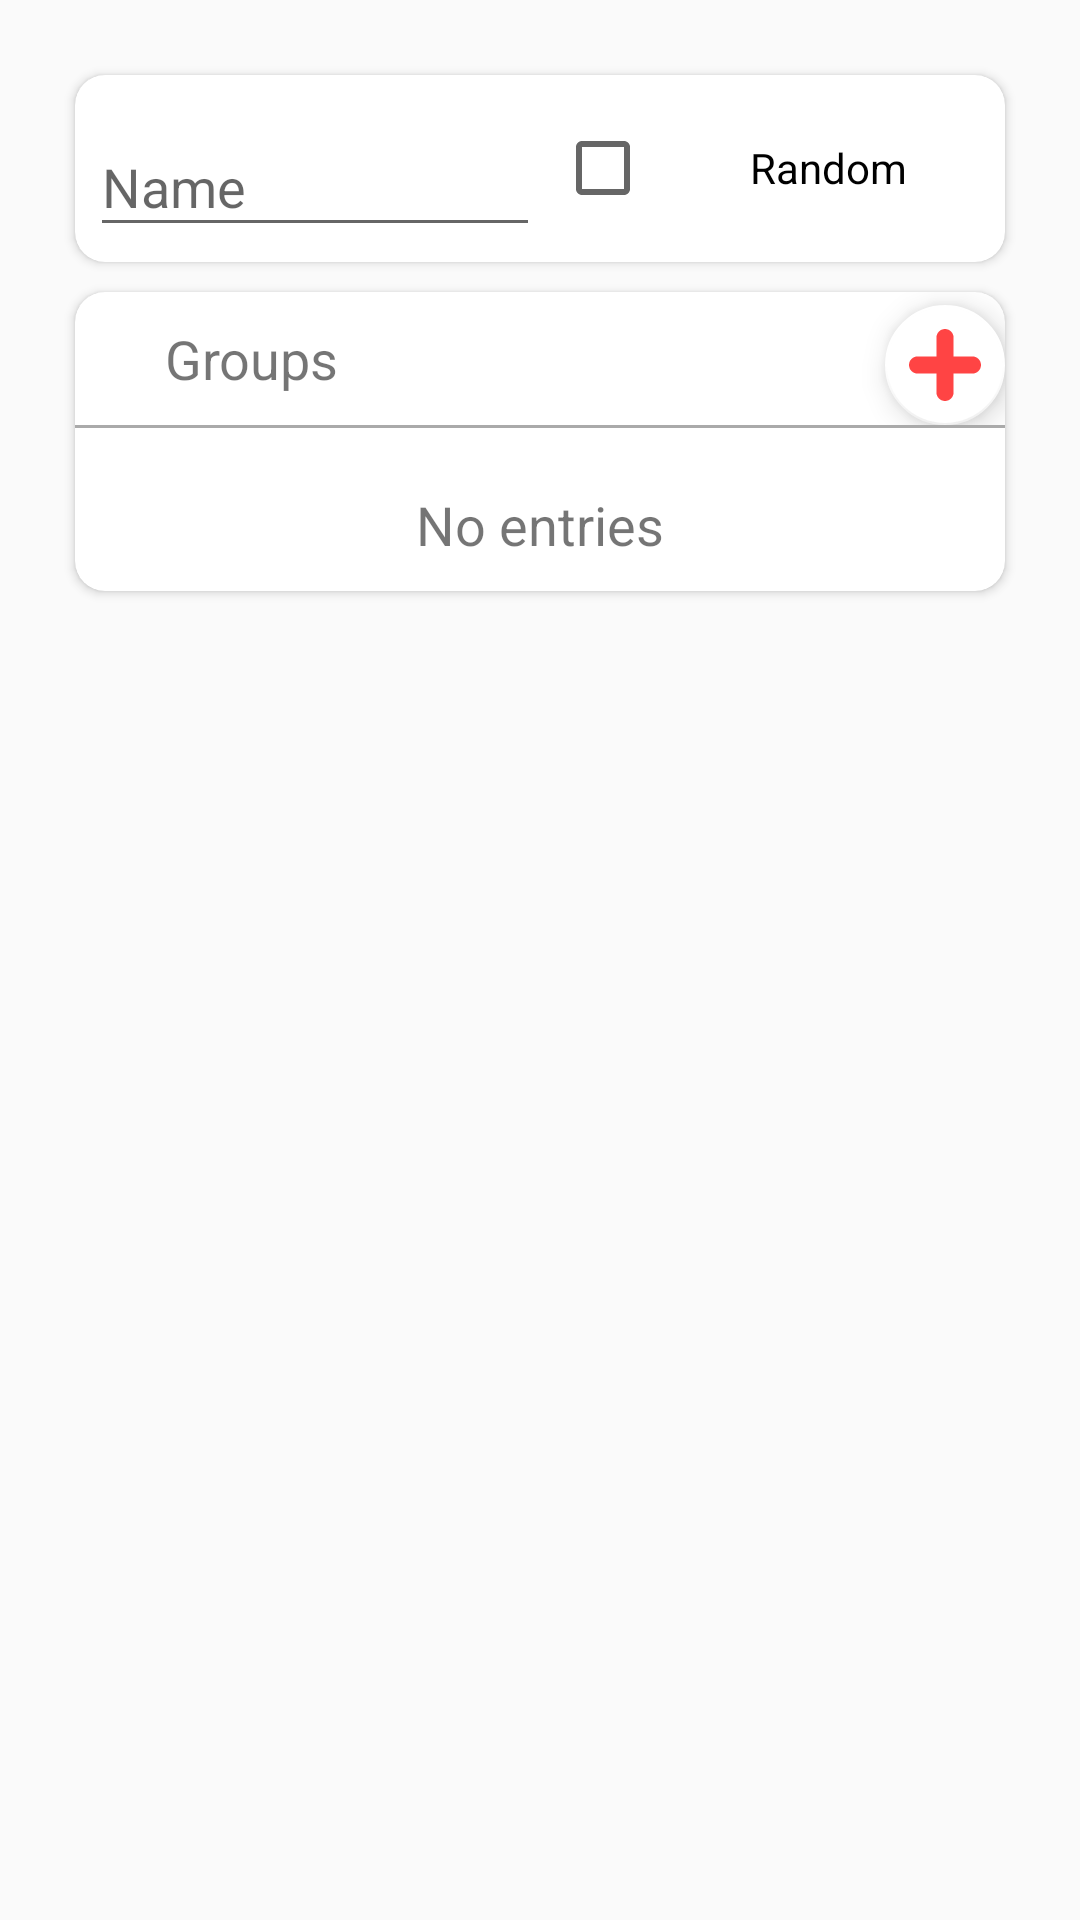

Icon bounding boxes for this 1080 x 1920 phone screenshot, format (x1, y1, x2, y2):
Add group: (909, 329, 1003, 424)
